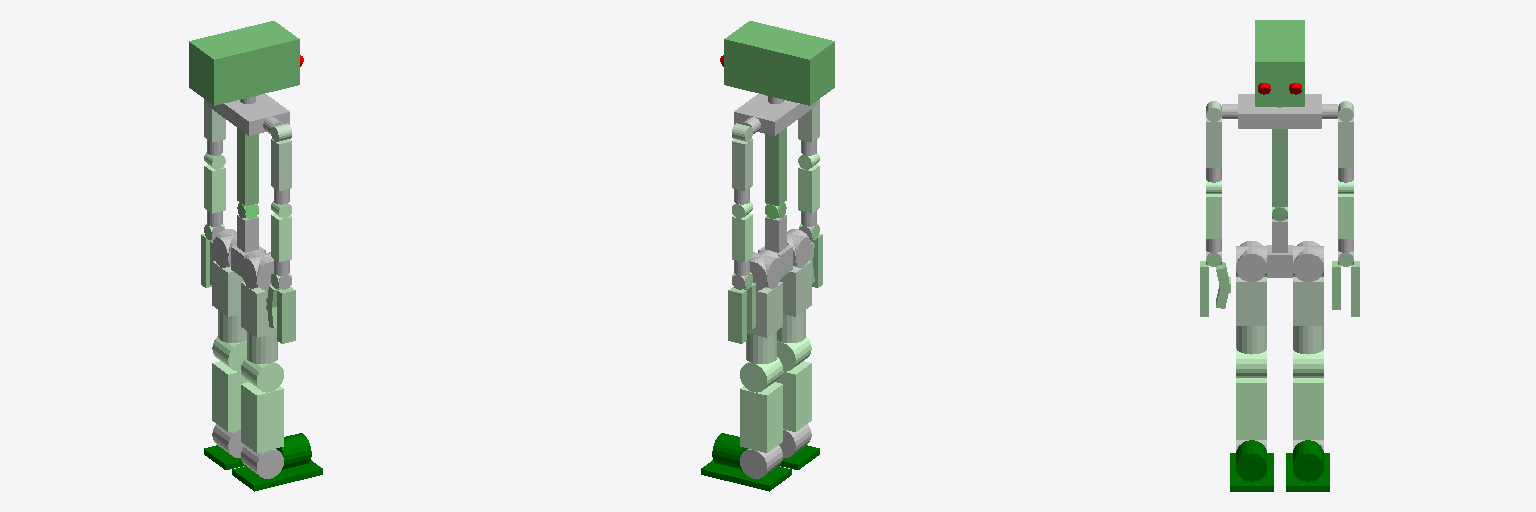
--- What the picture shows (computed from the rendered views, not written in the file) ---
Views: 3 orthographic renders of the robot side by side, from view 1: azimuth 30°, elevation 25°; view 2: azimuth 150°, elevation 25°; view 3: azimuth 270°, elevation 25°.
Robot: SampleRobot — 30 links, 29 joints (14 revolute, 15 continuous); root link WAIST_LINK0; default pose: all joints at 0.
Links seen in each view (by area): view 1: WAIST_LINK3, RLEG_LINK4, LLEG_LINK4, RLEG_LINK3, RLEG_LINK6, LLEG_LINK3, WAIST_LINK2, RARM_LINK2, RARM_LINK6, LARM_LINK4, RARM_LINK4, WAIST_LINK0 (+6 smaller); view 2: WAIST_LINK3, LLEG_LINK4, RLEG_LINK4, LLEG_LINK3, LLEG_LINK6, RLEG_LINK3, WAIST_LINK2, LARM_LINK2, LARM_LINK6, RARM_LINK4, LARM_LINK4, WAIST_LINK0 (+6 smaller); view 3: WAIST_LINK3, LLEG_LINK4, RLEG_LINK4, LLEG_LINK3, RLEG_LINK3, LLEG_LINK6, RLEG_LINK6, WAIST_LINK2, WAIST_LINK0, LARM_LINK2, RARM_LINK2, LARM_LINK4 (+5 smaller).
Link boxes in pixels (box(x1,y1,x2,y2)): WAIST_LINK3: box(189, 21, 303, 135); RLEG_LINK4: box(241, 357, 283, 452); LLEG_LINK4: box(212, 336, 248, 431); RLEG_LINK3: box(241, 282, 277, 363); RLEG_LINK6: box(232, 433, 322, 491); LLEG_LINK3: box(212, 261, 246, 342); WAIST_LINK2: box(237, 128, 258, 217); RARM_LINK2: box(271, 123, 291, 190); RARM_LINK6: box(271, 272, 295, 343); LARM_LINK4: box(204, 152, 225, 213); RARM_LINK4: box(271, 201, 291, 261); WAIST_LINK0: box(231, 215, 265, 276); WAIST_LINK3: box(720, 21, 834, 135); LLEG_LINK4: box(740, 357, 782, 452); RLEG_LINK4: box(775, 336, 811, 431); LLEG_LINK3: box(746, 282, 782, 363); LLEG_LINK6: box(701, 433, 791, 491); RLEG_LINK3: box(777, 261, 811, 342); WAIST_LINK2: box(765, 128, 786, 217); LARM_LINK2: box(732, 123, 752, 190); LARM_LINK6: box(728, 272, 752, 343); RARM_LINK4: box(798, 152, 819, 213); LARM_LINK4: box(732, 201, 752, 261); WAIST_LINK0: box(758, 215, 792, 276); WAIST_LINK3: box(1238, 20, 1321, 128); LLEG_LINK4: box(1293, 349, 1323, 439); RLEG_LINK4: box(1236, 349, 1266, 439); LLEG_LINK3: box(1293, 277, 1323, 354); RLEG_LINK3: box(1236, 277, 1266, 354); LLEG_LINK6: box(1286, 440, 1329, 491); RLEG_LINK6: box(1230, 440, 1273, 491); WAIST_LINK2: box(1272, 129, 1287, 221); WAIST_LINK0: box(1267, 219, 1292, 277); LARM_LINK2: box(1338, 101, 1353, 167); RARM_LINK2: box(1206, 101, 1221, 167); LARM_LINK4: box(1338, 180, 1353, 238).
Bounding box of the posed robot: 0.35 × 0.51 × 1.49 m (x, y, z).
30 mesh visuals loaded from 30 distinct referenced files (30 Collada DAE).

The robot description file, URDF, robot "SampleRobot":
<?xml version="1.0"?>
<robot name="SampleRobot"
       xmlns:xi="http://www.w3.org/2001/XInclude"
       >
  <link name="WAIST_LINK0">
    <visual>
      <origin xyz="0 0 0.7235" rpy="0 -0 0"/>
      <geometry>
        <mesh filename="package://hrpsys_ros_bridge_tutorials/models/SampleRobot_meshes/WAIST_LINK0_mesh.dae" scale="1 1 1" />
      </geometry>
    </visual>
    <collision>
      <origin xyz="0 0 0.7235" rpy="0 -0 0"/>
      <geometry>
        <mesh filename="package://hrpsys_ros_bridge_tutorials/models/SampleRobot_meshes/WAIST_LINK0_mesh.dae" scale="1 1 1" />
      </geometry>
    </collision>
    <inertial>
      <mass value="27" />
      <origin xyz="0 0 0.0375" rpy="0 -0 0"/>
      <inertia ixx="0.096482" ixy="0" ixz="0" iyy="0.096482" iyz="0" izz="0.0288"/>
    </inertial>
  </link>
  <gazebo reference="WAIST_LINK0">
    <mu1>0.9</mu1>
    <mu2>0.9</mu2>
  </gazebo>
  <link name="LLEG_LINK1">
    <visual>
      <origin xyz="0 0.09 0" rpy="0 -0 0"/>
      <geometry>
        <mesh filename="package://hrpsys_ros_bridge_tutorials/models/SampleRobot_meshes/LLEG_LINK1_mesh.dae" scale="1 1 1" />
      </geometry>
    </visual>
    <collision>
      <origin xyz="0 0.09 0" rpy="0 -0 0"/>
      <geometry>
        <mesh filename="package://hrpsys_ros_bridge_tutorials/models/SampleRobot_meshes/LLEG_LINK1_mesh.dae" scale="1 1 1" />
      </geometry>
    </collision>
    <inertial>
      <mass value="2.5" />
      <origin xyz="0 0 0" rpy="0 -0 0"/>
      <inertia ixx="0.003125" ixy="0" ixz="0" iyy="0.003646" iyz="0" izz="0.003646"/>
    </inertial>
  </link>
  <gazebo reference="LLEG_LINK1">
    <mu1>0.9</mu1>
    <mu2>0.9</mu2>
  </gazebo>
  <link name="LLEG_LINK2">
    <visual>
      <origin xyz="0 0 0" rpy="0 -0 0"/>
      <geometry>
        <mesh filename="package://hrpsys_ros_bridge_tutorials/models/SampleRobot_meshes/LLEG_LINK2_mesh.dae" scale="1 1 1" />
      </geometry>
    </visual>
    <collision>
      <origin xyz="0 0 0" rpy="0 -0 0"/>
      <geometry>
        <mesh filename="package://hrpsys_ros_bridge_tutorials/models/SampleRobot_meshes/LLEG_LINK2_mesh.dae" scale="1 1 1" />
      </geometry>
    </collision>
    <inertial>
      <mass value="2" />
      <origin xyz="0 0 0" rpy="0 -0 0"/>
      <inertia ixx="0.002917" ixy="0" ixz="0" iyy="0.0025" iyz="0" izz="0.002917"/>
    </inertial>
  </link>
  <gazebo reference="LLEG_LINK2">
    <mu1>0.9</mu1>
    <mu2>0.9</mu2>
  </gazebo>
  <link name="LLEG_LINK3">
    <visual>
      <origin xyz="0 0 -0.3535" rpy="0 -0 0"/>
      <geometry>
        <mesh filename="package://hrpsys_ros_bridge_tutorials/models/SampleRobot_meshes/LLEG_LINK3_mesh.dae" scale="1 1 1" />
      </geometry>
    </visual>
    <collision>
      <origin xyz="0 0 -0.3535" rpy="0 -0 0"/>
      <geometry>
        <mesh filename="package://hrpsys_ros_bridge_tutorials/models/SampleRobot_meshes/LLEG_LINK3_mesh.dae" scale="1 1 1" />
      </geometry>
    </collision>
    <inertial>
      <mass value="5.1" />
      <origin xyz="0 0 0.18" rpy="0 -0 0"/>
      <inertia ixx="0.03156" ixy="0" ixz="0" iyy="0.03156" iyz="0" izz="0.0085"/>
    </inertial>
  </link>
  <gazebo reference="LLEG_LINK3">
    <mu1>0.9</mu1>
    <mu2>0.9</mu2>
  </gazebo>
  <link name="LLEG_LINK4">
    <visual>
      <origin xyz="0 0 0" rpy="0 -0 0"/>
      <geometry>
        <mesh filename="package://hrpsys_ros_bridge_tutorials/models/SampleRobot_meshes/LLEG_LINK4_mesh.dae" scale="1 1 1" />
      </geometry>
    </visual>
    <collision>
      <origin xyz="0 0 0" rpy="0 -0 0"/>
      <geometry>
        <mesh filename="package://hrpsys_ros_bridge_tutorials/models/SampleRobot_meshes/LLEG_LINK4_mesh.dae" scale="1 1 1" />
      </geometry>
    </collision>
    <inertial>
      <mass value="7" />
      <origin xyz="0 0 -0.12" rpy="0 -0 0"/>
      <inertia ixx="0.05833" ixy="0" ixz="0" iyy="0.05833" iyz="0" izz="0.01167"/>
    </inertial>
  </link>
  <gazebo reference="LLEG_LINK4">
    <mu1>0.9</mu1>
    <mu2>0.9</mu2>
  </gazebo>
  <link name="LLEG_LINK5">
    <visual>
      <origin xyz="0 0 -0.3" rpy="0 -0 0"/>
      <geometry>
        <mesh filename="package://hrpsys_ros_bridge_tutorials/models/SampleRobot_meshes/LLEG_LINK5_mesh.dae" scale="1 1 1" />
      </geometry>
    </visual>
    <collision>
      <origin xyz="0 0 -0.3" rpy="0 -0 0"/>
      <geometry>
        <mesh filename="package://hrpsys_ros_bridge_tutorials/models/SampleRobot_meshes/LLEG_LINK5_mesh.dae" scale="1 1 1" />
      </geometry>
    </collision>
    <inertial>
      <mass value="2.5" />
      <origin xyz="0 0 0" rpy="0 -0 0"/>
      <inertia ixx="0.003646" ixy="0" ixz="0" iyy="0.003125" iyz="0" izz="0.003646"/>
    </inertial>
  </link>
  <gazebo reference="LLEG_LINK5">
    <mu1>0.9</mu1>
    <mu2>0.9</mu2>
  </gazebo>
  <link name="LLEG_LINK6">
    <visual>
      <origin xyz="0 0 0" rpy="0 -0 0"/>
      <geometry>
        <mesh filename="package://hrpsys_ros_bridge_tutorials/models/SampleRobot_meshes/LLEG_LINK6_mesh.dae" scale="1 1 1" />
      </geometry>
    </visual>
    <collision>
      <origin xyz="0 0 0" rpy="0 -0 0"/>
      <geometry>
        <mesh filename="package://hrpsys_ros_bridge_tutorials/models/SampleRobot_meshes/LLEG_LINK6_mesh.dae" scale="1 1 1" />
      </geometry>
    </collision>
    <inertial>
      <mass value="1.9" />
      <origin xyz="0.08 0 -0.03" rpy="0 -0 0"/>
      <inertia ixx="0.005291" ixy="0" ixz="0" iyy="0.012084" iyz="0" izz="0.013"/>
    </inertial>
  </link>
  <gazebo reference="LLEG_LINK6">
    <mu1>0.9</mu1>
    <mu2>0.9</mu2>
  </gazebo>
  <link name="RLEG_LINK1">
    <visual>
      <origin xyz="0 -0.09 0" rpy="0 -0 0"/>
      <geometry>
        <mesh filename="package://hrpsys_ros_bridge_tutorials/models/SampleRobot_meshes/RLEG_LINK1_mesh.dae" scale="1 1 1" />
      </geometry>
    </visual>
    <collision>
      <origin xyz="0 -0.09 0" rpy="0 -0 0"/>
      <geometry>
        <mesh filename="package://hrpsys_ros_bridge_tutorials/models/SampleRobot_meshes/RLEG_LINK1_mesh.dae" scale="1 1 1" />
      </geometry>
    </collision>
    <inertial>
      <mass value="2.5" />
      <origin xyz="0 0 0" rpy="0 -0 0"/>
      <inertia ixx="0.003125" ixy="0" ixz="0" iyy="0.003646" iyz="0" izz="0.003646"/>
    </inertial>
  </link>
  <gazebo reference="RLEG_LINK1">
    <mu1>0.9</mu1>
    <mu2>0.9</mu2>
  </gazebo>
  <link name="RLEG_LINK2">
    <visual>
      <origin xyz="0 0 0" rpy="0 -0 0"/>
      <geometry>
        <mesh filename="package://hrpsys_ros_bridge_tutorials/models/SampleRobot_meshes/RLEG_LINK2_mesh.dae" scale="1 1 1" />
      </geometry>
    </visual>
    <collision>
      <origin xyz="0 0 0" rpy="0 -0 0"/>
      <geometry>
        <mesh filename="package://hrpsys_ros_bridge_tutorials/models/SampleRobot_meshes/RLEG_LINK2_mesh.dae" scale="1 1 1" />
      </geometry>
    </collision>
    <inertial>
      <mass value="2" />
      <origin xyz="0 0 0" rpy="0 -0 0"/>
      <inertia ixx="0.002917" ixy="0" ixz="0" iyy="0.0025" iyz="0" izz="0.002917"/>
    </inertial>
  </link>
  <gazebo reference="RLEG_LINK2">
    <mu1>0.9</mu1>
    <mu2>0.9</mu2>
  </gazebo>
  <link name="RLEG_LINK3">
    <visual>
      <origin xyz="0 0 -0.3535" rpy="0 -0 0"/>
      <geometry>
        <mesh filename="package://hrpsys_ros_bridge_tutorials/models/SampleRobot_meshes/RLEG_LINK3_mesh.dae" scale="1 1 1" />
      </geometry>
    </visual>
    <collision>
      <origin xyz="0 0 -0.3535" rpy="0 -0 0"/>
      <geometry>
        <mesh filename="package://hrpsys_ros_bridge_tutorials/models/SampleRobot_meshes/RLEG_LINK3_mesh.dae" scale="1 1 1" />
      </geometry>
    </collision>
    <inertial>
      <mass value="5.1" />
      <origin xyz="0 0 0.18" rpy="0 -0 0"/>
      <inertia ixx="0.03156" ixy="0" ixz="0" iyy="0.03156" iyz="0" izz="0.0085"/>
    </inertial>
  </link>
  <gazebo reference="RLEG_LINK3">
    <mu1>0.9</mu1>
    <mu2>0.9</mu2>
  </gazebo>
  <link name="RLEG_LINK4">
    <visual>
      <origin xyz="0 0 0" rpy="0 -0 0"/>
      <geometry>
        <mesh filename="package://hrpsys_ros_bridge_tutorials/models/SampleRobot_meshes/RLEG_LINK4_mesh.dae" scale="1 1 1" />
      </geometry>
    </visual>
    <collision>
      <origin xyz="0 0 0" rpy="0 -0 0"/>
      <geometry>
        <mesh filename="package://hrpsys_ros_bridge_tutorials/models/SampleRobot_meshes/RLEG_LINK4_mesh.dae" scale="1 1 1" />
      </geometry>
    </collision>
    <inertial>
      <mass value="7" />
      <origin xyz="0 0 -0.12" rpy="0 -0 0"/>
      <inertia ixx="0.05833" ixy="0" ixz="0" iyy="0.05833" iyz="0" izz="0.01167"/>
    </inertial>
  </link>
  <gazebo reference="RLEG_LINK4">
    <mu1>0.9</mu1>
    <mu2>0.9</mu2>
  </gazebo>
  <link name="RLEG_LINK5">
    <visual>
      <origin xyz="0 0 -0.3" rpy="0 -0 0"/>
      <geometry>
        <mesh filename="package://hrpsys_ros_bridge_tutorials/models/SampleRobot_meshes/RLEG_LINK5_mesh.dae" scale="1 1 1" />
      </geometry>
    </visual>
    <collision>
      <origin xyz="0 0 -0.3" rpy="0 -0 0"/>
      <geometry>
        <mesh filename="package://hrpsys_ros_bridge_tutorials/models/SampleRobot_meshes/RLEG_LINK5_mesh.dae" scale="1 1 1" />
      </geometry>
    </collision>
    <inertial>
      <mass value="2.5" />
      <origin xyz="0 0 0" rpy="0 -0 0"/>
      <inertia ixx="0.003646" ixy="0" ixz="0" iyy="0.003125" iyz="0" izz="0.003646"/>
    </inertial>
  </link>
  <gazebo reference="RLEG_LINK5">
    <mu1>0.9</mu1>
    <mu2>0.9</mu2>
  </gazebo>
  <link name="RLEG_LINK6">
    <visual>
      <origin xyz="0 0 0" rpy="0 -0 0"/>
      <geometry>
        <mesh filename="package://hrpsys_ros_bridge_tutorials/models/SampleRobot_meshes/RLEG_LINK6_mesh.dae" scale="1 1 1" />
      </geometry>
    </visual>
    <collision>
      <origin xyz="0 0 0" rpy="0 -0 0"/>
      <geometry>
        <mesh filename="package://hrpsys_ros_bridge_tutorials/models/SampleRobot_meshes/RLEG_LINK6_mesh.dae" scale="1 1 1" />
      </geometry>
    </collision>
    <inertial>
      <mass value="1.9" />
      <origin xyz="0.08 0 -0.03" rpy="0 -0 0"/>
      <inertia ixx="0.005291" ixy="0" ixz="0" iyy="0.012084" iyz="0" izz="0.013"/>
    </inertial>
  </link>
  <gazebo reference="RLEG_LINK6">
    <mu1>0.9</mu1>
    <mu2>0.9</mu2>
  </gazebo>
  <link name="WAIST_LINK1">
    <visual>
      <origin xyz="0 0 0.176" rpy="0 -0 0"/>
      <geometry>
        <mesh filename="package://hrpsys_ros_bridge_tutorials/models/SampleRobot_meshes/WAIST_LINK1_mesh.dae" scale="1 1 1" />
      </geometry>
    </visual>
    <collision>
      <origin xyz="0 0 0.176" rpy="0 -0 0"/>
      <geometry>
        <mesh filename="package://hrpsys_ros_bridge_tutorials/models/SampleRobot_meshes/WAIST_LINK1_mesh.dae" scale="1 1 1" />
      </geometry>
    </collision>
    <inertial>
      <mass value="6" />
      <origin xyz="0 0 5.55112e-17" rpy="0 -0 0"/>
      <inertia ixx="0.002187" ixy="0" ixz="0" iyy="0.001875" iyz="0" izz="0.002187"/>
    </inertial>
  </link>
  <gazebo reference="WAIST_LINK1">
    <mu1>0.9</mu1>
    <mu2>0.9</mu2>
  </gazebo>
  <link name="WAIST_LINK2">
    <visual>
      <origin xyz="0 0 0" rpy="0 -0 0"/>
      <geometry>
        <mesh filename="package://hrpsys_ros_bridge_tutorials/models/SampleRobot_meshes/WAIST_LINK2_mesh.dae" scale="1 1 1" />
      </geometry>
    </visual>
    <collision>
      <origin xyz="0 0 0" rpy="0 -0 0"/>
      <geometry>
        <mesh filename="package://hrpsys_ros_bridge_tutorials/models/SampleRobot_meshes/WAIST_LINK2_mesh.dae" scale="1 1 1" />
      </geometry>
    </collision>
    <inertial>
      <mass value="30" />
      <origin xyz="0 0 0.16" rpy="0 -0 0"/>
      <inertia ixx="0.27" ixy="0" ixz="0" iyy="0.27" iyz="0" izz="0.0125"/>
    </inertial>
  </link>
  <gazebo reference="WAIST_LINK2">
    <mu1>0.9</mu1>
    <mu2>0.9</mu2>
  </gazebo>
  <link name="WAIST_LINK3">
    <visual>
      <origin xyz="0 0 0.35" rpy="0 -0 0"/>
      <geometry>
        <mesh filename="package://hrpsys_ros_bridge_tutorials/models/SampleRobot_meshes/WAIST_LINK3_mesh.dae" scale="1 1 1" />
      </geometry>
    </visual>
    <collision>
      <origin xyz="0 0 0.35" rpy="0 -0 0"/>
      <geometry>
        <mesh filename="package://hrpsys_ros_bridge_tutorials/models/SampleRobot_meshes/WAIST_LINK3_mesh.dae" scale="1 1 1" />
      </geometry>
    </collision>
    <inertial>
      <mass value="13" />
      <origin xyz="0 0 0.08" rpy="0 -0 0"/>
      <inertia ixx="0.17" ixy="0" ixz="0" iyy="0.215" iyz="0" izz="0.2026"/>
    </inertial>
  </link>
  <gazebo reference="WAIST_LINK3">
    <mu1>0.9</mu1>
    <mu2>0.9</mu2>
  </gazebo>
  <link name="LARM_LINK1">
    <visual>
      <origin xyz="0 0.21 0" rpy="0 -0 0"/>
      <geometry>
        <mesh filename="package://hrpsys_ros_bridge_tutorials/models/SampleRobot_meshes/LARM_LINK1_mesh.dae" scale="1 1 1" />
      </geometry>
    </visual>
    <collision>
      <origin xyz="0 0.21 0" rpy="0 -0 0"/>
      <geometry>
        <mesh filename="package://hrpsys_ros_bridge_tutorials/models/SampleRobot_meshes/LARM_LINK1_mesh.dae" scale="1 1 1" />
      </geometry>
    </collision>
    <inertial>
      <mass value="0.4" />
      <origin xyz="0 -0.05 2.22045e-16" rpy="0 -0 0"/>
      <inertia ixx="0.000125" ixy="0" ixz="0" iyy="0.000146" iyz="0" izz="0.000125"/>
    </inertial>
  </link>
  <gazebo reference="LARM_LINK1">
    <mu1>0.9</mu1>
    <mu2>0.9</mu2>
  </gazebo>
  <link name="LARM_LINK2">
    <visual>
      <origin xyz="0 0 0" rpy="0 -0 0"/>
      <geometry>
        <mesh filename="package://hrpsys_ros_bridge_tutorials/models/SampleRobot_meshes/LARM_LINK2_mesh.dae" scale="1 1 1" />
      </geometry>
    </visual>
    <collision>
      <origin xyz="0 0 0" rpy="0 -0 0"/>
      <geometry>
        <mesh filename="package://hrpsys_ros_bridge_tutorials/models/SampleRobot_meshes/LARM_LINK2_mesh.dae" scale="1 1 1" />
      </geometry>
    </collision>
    <inertial>
      <mass value="2.2" />
      <origin xyz="0 0 -0.1" rpy="0 -0 0"/>
      <inertia ixx="0.008776" ixy="0" ixz="0" iyy="0.008776" iyz="0" izz="0.000917"/>
    </inertial>
  </link>
  <gazebo reference="LARM_LINK2">
    <mu1>0.9</mu1>
    <mu2>0.9</mu2>
  </gazebo>
  <link name="LARM_LINK3">
    <visual>
      <origin xyz="0 0 -0.263" rpy="0 -0 0"/>
      <geometry>
        <mesh filename="package://hrpsys_ros_bridge_tutorials/models/SampleRobot_meshes/LARM_LINK3_mesh.dae" scale="1 1 1" />
      </geometry>
    </visual>
    <collision>
      <origin xyz="0 0 -0.263" rpy="0 -0 0"/>
      <geometry>
        <mesh filename="package://hrpsys_ros_bridge_tutorials/models/SampleRobot_meshes/LARM_LINK3_mesh.dae" scale="1 1 1" />
      </geometry>
    </collision>
    <inertial>
      <mass value="0.4" />
      <origin xyz="0 0 0.05" rpy="0 -0 0"/>
      <inertia ixx="0.000146" ixy="0" ixz="0" iyy="0.000146" iyz="0" izz="0.000125"/>
    </inertial>
  </link>
  <gazebo reference="LARM_LINK3">
    <mu1>0.9</mu1>
    <mu2>0.9</mu2>
  </gazebo>
  <link name="LARM_LINK4">
    <visual>
      <origin xyz="0 0 0" rpy="0 -0 0"/>
      <geometry>
        <mesh filename="package://hrpsys_ros_bridge_tutorials/models/SampleRobot_meshes/LARM_LINK4_mesh.dae" scale="1 1 1" />
      </geometry>
    </visual>
    <collision>
      <origin xyz="0 0 0" rpy="0 -0 0"/>
      <geometry>
        <mesh filename="package://hrpsys_ros_bridge_tutorials/models/SampleRobot_meshes/LARM_LINK4_mesh.dae" scale="1 1 1" />
      </geometry>
    </collision>
    <inertial>
      <mass value="2.2" />
      <origin xyz="0 0 -0.1" rpy="0 -0 0"/>
      <inertia ixx="0.007573" ixy="0" ixz="0" iyy="0.007573" iyz="0" izz="0.000917"/>
    </inertial>
  </link>
  <gazebo reference="LARM_LINK4">
    <mu1>0.9</mu1>
    <mu2>0.9</mu2>
  </gazebo>
  <link name="LARM_LINK5">
    <visual>
      <origin xyz="0 0 -0.247" rpy="0 -0 0"/>
      <geometry>
        <mesh filename="package://hrpsys_ros_bridge_tutorials/models/SampleRobot_meshes/LARM_LINK5_mesh.dae" scale="1 1 1" />
      </geometry>
    </visual>
    <collision>
      <origin xyz="0 0 -0.247" rpy="0 -0 0"/>
      <geometry>
        <mesh filename="package://hrpsys_ros_bridge_tutorials/models/SampleRobot_meshes/LARM_LINK5_mesh.dae" scale="1 1 1" />
      </geometry>
    </collision>
    <inertial>
      <mass value="0.4" />
      <origin xyz="0 0 0.05" rpy="0 -0 0"/>
      <inertia ixx="0.000146" ixy="0" ixz="0" iyy="0.000146" iyz="0" izz="0.000125"/>
    </inertial>
  </link>
  <gazebo reference="LARM_LINK5">
    <mu1>0.9</mu1>
    <mu2>0.9</mu2>
  </gazebo>
  <link name="LARM_LINK6">
    <visual>
      <origin xyz="0 0 0" rpy="0 -0 0"/>
      <geometry>
        <mesh filename="package://hrpsys_ros_bridge_tutorials/models/SampleRobot_meshes/LARM_LINK6_mesh.dae" scale="1 1 1" />
      </geometry>
    </visual>
    <collision>
      <origin xyz="0 0 0" rpy="0 -0 0"/>
      <geometry>
        <mesh filename="package://hrpsys_ros_bridge_tutorials/models/SampleRobot_meshes/LARM_LINK6_mesh.dae" scale="1 1 1" />
      </geometry>
    </collision>
    <inertial>
      <mass value="0.4" />
      <origin xyz="0 0.01 -0.09" rpy="0 -0 0"/>
      <inertia ixx="0.001851" ixy="0" ixz="0" iyy="0.001771" iyz="0" izz="0.000247"/>
    </inertial>
  </link>
  <gazebo reference="LARM_LINK6">
    <mu1>0.9</mu1>
    <mu2>0.9</mu2>
  </gazebo>
  <link name="LARM_LINK7">
    <visual>
      <origin xyz="0 0 0" rpy="0 -0 0"/>
      <geometry>
        <mesh filename="package://hrpsys_ros_bridge_tutorials/models/SampleRobot_meshes/LARM_LINK7_mesh.dae" scale="1 1 1" />
      </geometry>
    </visual>
    <collision>
      <origin xyz="0 0 0" rpy="0 -0 0"/>
      <geometry>
        <mesh filename="package://hrpsys_ros_bridge_tutorials/models/SampleRobot_meshes/LARM_LINK7_mesh.dae" scale="1 1 1" />
      </geometry>
    </collision>
    <inertial>
      <mass value="0.4" />
      <origin xyz="0 -0.03 -0.1" rpy="0 -0 0"/>
      <inertia ixx="0.00078" ixy="0" ixz="0" iyy="0.000833" iyz="0" izz="0.000113"/>
    </inertial>
  </link>
  <gazebo reference="LARM_LINK7">
    <mu1>0.9</mu1>
    <mu2>0.9</mu2>
  </gazebo>
  <link name="RARM_LINK1">
    <visual>
      <origin xyz="0 -0.21 0" rpy="0 -0 0"/>
      <geometry>
        <mesh filename="package://hrpsys_ros_bridge_tutorials/models/SampleRobot_meshes/RARM_LINK1_mesh.dae" scale="1 1 1" />
      </geometry>
    </visual>
    <collision>
      <origin xyz="0 -0.21 0" rpy="0 -0 0"/>
      <geometry>
        <mesh filename="package://hrpsys_ros_bridge_tutorials/models/SampleRobot_meshes/RARM_LINK1_mesh.dae" scale="1 1 1" />
      </geometry>
    </collision>
    <inertial>
      <mass value="0.4" />
      <origin xyz="0 0.05 2.22045e-16" rpy="0 -0 0"/>
      <inertia ixx="0.000125" ixy="0" ixz="0" iyy="0.000146" iyz="0" izz="0.000125"/>
    </inertial>
  </link>
  <gazebo reference="RARM_LINK1">
    <mu1>0.9</mu1>
    <mu2>0.9</mu2>
  </gazebo>
  <link name="RARM_LINK2">
    <visual>
      <origin xyz="0 0 0" rpy="0 -0 0"/>
      <geometry>
        <mesh filename="package://hrpsys_ros_bridge_tutorials/models/SampleRobot_meshes/RARM_LINK2_mesh.dae" scale="1 1 1" />
      </geometry>
    </visual>
    <collision>
      <origin xyz="0 0 0" rpy="0 -0 0"/>
      <geometry>
        <mesh filename="package://hrpsys_ros_bridge_tutorials/models/SampleRobot_meshes/RARM_LINK2_mesh.dae" scale="1 1 1" />
      </geometry>
    </collision>
    <inertial>
      <mass value="2.2" />
      <origin xyz="0 0 -0.1" rpy="0 -0 0"/>
      <inertia ixx="0.008776" ixy="0" ixz="0" iyy="0.008776" iyz="0" izz="0.000917"/>
    </inertial>
  </link>
  <gazebo reference="RARM_LINK2">
    <mu1>0.9</mu1>
    <mu2>0.9</mu2>
  </gazebo>
  <link name="RARM_LINK3">
    <visual>
      <origin xyz="0 0 -0.263" rpy="0 -0 0"/>
      <geometry>
        <mesh filename="package://hrpsys_ros_bridge_tutorials/models/SampleRobot_meshes/RARM_LINK3_mesh.dae" scale="1 1 1" />
      </geometry>
    </visual>
    <collision>
      <origin xyz="0 0 -0.263" rpy="0 -0 0"/>
      <geometry>
        <mesh filename="package://hrpsys_ros_bridge_tutorials/models/SampleRobot_meshes/RARM_LINK3_mesh.dae" scale="1 1 1" />
      </geometry>
    </collision>
    <inertial>
      <mass value="0.4" />
      <origin xyz="0 0 0.05" rpy="0 -0 0"/>
      <inertia ixx="0.000146" ixy="0" ixz="0" iyy="0.000146" iyz="0" izz="0.000125"/>
    </inertial>
  </link>
  <gazebo reference="RARM_LINK3">
    <mu1>0.9</mu1>
    <mu2>0.9</mu2>
  </gazebo>
  <link name="RARM_LINK4">
    <visual>
      <origin xyz="0 0 0" rpy="0 -0 0"/>
      <geometry>
        <mesh filename="package://hrpsys_ros_bridge_tutorials/models/SampleRobot_meshes/RARM_LINK4_mesh.dae" scale="1 1 1" />
      </geometry>
    </visual>
    <collision>
      <origin xyz="0 0 0" rpy="0 -0 0"/>
      <geometry>
        <mesh filename="package://hrpsys_ros_bridge_tutorials/models/SampleRobot_meshes/RARM_LINK4_mesh.dae" scale="1 1 1" />
      </geometry>
    </collision>
    <inertial>
      <mass value="2.2" />
      <origin xyz="0 0 -0.1" rpy="0 -0 0"/>
      <inertia ixx="0.007573" ixy="0" ixz="0" iyy="0.007573" iyz="0" izz="0.000917"/>
    </inertial>
  </link>
  <gazebo reference="RARM_LINK4">
    <mu1>0.9</mu1>
    <mu2>0.9</mu2>
  </gazebo>
  <link name="RARM_LINK5">
    <visual>
      <origin xyz="0 0 -0.247" rpy="0 -0 0"/>
      <geometry>
        <mesh filename="package://hrpsys_ros_bridge_tutorials/models/SampleRobot_meshes/RARM_LINK5_mesh.dae" scale="1 1 1" />
      </geometry>
    </visual>
    <collision>
      <origin xyz="0 0 -0.247" rpy="0 -0 0"/>
      <geometry>
        <mesh filename="package://hrpsys_ros_bridge_tutorials/models/SampleRobot_meshes/RARM_LINK5_mesh.dae" scale="1 1 1" />
      </geometry>
    </collision>
    <inertial>
      <mass value="0.4" />
      <origin xyz="0 0 0.05" rpy="0 -0 0"/>
      <inertia ixx="0.000146" ixy="0" ixz="0" iyy="0.000146" iyz="0" izz="0.000125"/>
    </inertial>
  </link>
  <gazebo reference="RARM_LINK5">
    <mu1>0.9</mu1>
    <mu2>0.9</mu2>
  </gazebo>
  <link name="RARM_LINK6">
    <visual>
      <origin xyz="0 0 0" rpy="0 -0 0"/>
      <geometry>
        <mesh filename="package://hrpsys_ros_bridge_tutorials/models/SampleRobot_meshes/RARM_LINK6_mesh.dae" scale="1 1 1" />
      </geometry>
    </visual>
    <collision>
      <origin xyz="0 0 0" rpy="0 -0 0"/>
      <geometry>
        <mesh filename="package://hrpsys_ros_bridge_tutorials/models/SampleRobot_meshes/RARM_LINK6_mesh.dae" scale="1 1 1" />
      </geometry>
    </collision>
    <inertial>
      <mass value="0.4" />
      <origin xyz="0 -0.01 -0.09" rpy="0 -0 0"/>
      <inertia ixx="0.001851" ixy="0" ixz="0" iyy="0.001771" iyz="0" izz="0.000247"/>
    </inertial>
  </link>
  <gazebo reference="RARM_LINK6">
    <mu1>0.9</mu1>
    <mu2>0.9</mu2>
  </gazebo>
  <link name="RARM_LINK7">
    <visual>
      <origin xyz="0 0 0" rpy="0 -0 0"/>
      <geometry>
        <mesh filename="package://hrpsys_ros_bridge_tutorials/models/SampleRobot_meshes/RARM_LINK7_mesh.dae" scale="1 1 1" />
      </geometry>
    </visual>
    <collision>
      <origin xyz="0 0 0" rpy="0 -0 0"/>
      <geometry>
        <mesh filename="package://hrpsys_ros_bridge_tutorials/models/SampleRobot_meshes/RARM_LINK7_mesh.dae" scale="1 1 1" />
      </geometry>
    </collision>
    <inertial>
      <mass value="0.4" />
      <origin xyz="0 0.03 -0.1" rpy="0 -0 0"/>
      <inertia ixx="0.00078" ixy="0" ixz="0" iyy="0.000833" iyz="0" izz="0.000113"/>
    </inertial>
  </link>
  <gazebo reference="RARM_LINK7">
    <mu1>0.9</mu1>
    <mu2>0.9</mu2>
  </gazebo>
  <joint name="LLEG_HIP_R" type="continuous">
    <parent link="WAIST_LINK0"/>
    <child  link="LLEG_LINK1"/>
    <origin xyz="0 0.09 0" rpy="0 -0 0 "/>
    <axis   xyz="1 0 0"/>
    <limit lower="-3.14159" upper="3.14159" effort="100" velocity="40" />
    <dynamics damping="0.2" friction="0" />
  </joint>
  <transmission type="pr2_mechanism_model/SimpleTransmission" name="LLEG_HIP_R_trans" >
    <actuator name="LLEG_HIP_R_motor" />
    <joint name="LLEG_HIP_R" />
    <mechanicalReduction>1</mechanicalReduction>
  </transmission>
  <gazebo reference="LLEG_HIP_R">
    <cfmDamping>0.4</cfmDamping>
  </gazebo>
  <joint name="LLEG_HIP_P" type="continuous">
    <parent link="LLEG_LINK1"/>
    <child  link="LLEG_LINK2"/>
    <origin xyz="0 0 0" rpy="0 -0 0 "/>
    <axis   xyz="0 1 0"/>
    <limit lower="-3.14159" upper="3.14159" effort="100" velocity="40" />
    <dynamics damping="0.2" friction="0" />
  </joint>
  <transmission type="pr2_mechanism_model/SimpleTransmission" name="LLEG_HIP_P_trans" >
    <actuator name="LLEG_HIP_P_motor" />
    <joint name="LLEG_HIP_P" />
    <mechanicalReduction>1</mechanicalReduction>
  </transmission>
  <gazebo reference="LLEG_HIP_P">
    <cfmDamping>0.4</cfmDamping>
  </gazebo>
  <joint name="LLEG_HIP_Y" type="continuous">
    <parent link="LLEG_LINK2"/>
    <child  link="LLEG_LINK3"/>
    <origin xyz="0 0 -0.3535" rpy="0 -0 0 "/>
    <axis   xyz="0 0 1"/>
    <limit lower="-3.14159" upper="3.14159" effort="100" velocity="40" />
    <dynamics damping="0.2" friction="0" />
  </joint>
  <transmission type="pr2_mechanism_model/SimpleTransmission" name="LLEG_HIP_Y_trans" >
    <actuator name="LLEG_HIP_Y_motor" />
    <joint name="LLEG_HIP_Y" />
    <mechanicalReduction>1</mechanicalReduction>
  </transmission>
  <gazebo reference="LLEG_HIP_Y">
    <cfmDamping>0.4</cfmDamping>
  </gazebo>
  <joint name="LLEG_KNEE" type="continuous">
    <parent link="LLEG_LINK3"/>
    <child  link="LLEG_LINK4"/>
    <origin xyz="0 0 0" rpy="0 -0 0 "/>
    <axis   xyz="0 1 0"/>
    <limit lower="-3.14159" upper="3.14159" effort="100" velocity="40" />
    <dynamics damping="0.2" friction="0" />
  </joint>
  <transmission type="pr2_mechanism_model/SimpleTransmission" name="LLEG_KNEE_trans" >
    <actuator name="LLEG_KNEE_motor" />
    <joint name="LLEG_KNEE" />
    <mechanicalReduction>1</mechanicalReduction>
  </transmission>
  <gazebo reference="LLEG_KNEE">
    <cfmDamping>0.4</cfmDamping>
  </gazebo>
  <joint name="LLEG_ANKLE_P" type="continuous">
    <parent link="LLEG_LINK4"/>
    <child  link="LLEG_LINK5"/>
    <origin xyz="0 0 -0.3" rpy="0 -0 0 "/>
    <axis   xyz="0 1 0"/>
    <limit lower="-3.14159" upper="3.14159" effort="100" velocity="40" />
    <dynamics damping="0.2" friction="0" />
  </joint>
  <transmission type="pr2_mechanism_model/SimpleTransmission" name="LLEG_ANKLE_P_trans" >
    <actuator name="LLEG_ANKLE_P_motor" />
    <joint name="LLEG_ANKLE_P" />
    <mechanicalReduction>1</mechanicalReduction>
  </transmission>
  <gazebo reference="LLEG_ANKLE_P">
    <cfmDamping>0.4</cfmDamping>
  </gazebo>
  <joint name="LLEG_ANKLE_R" type="continuous">
    <parent link="LLEG_LINK5"/>
    <child  link="LLEG_LINK6"/>
    <origin xyz="0 0 0" rpy="0 -0 0 "/>
    <axis   xyz="1 0 0"/>
    <limit lower="-3.14159" upper="3.14159" effort="100" velocity="40" />
    <dynamics damping="0.2" friction="0" />
  </joint>
  <transmission type="pr2_mechanism_model/SimpleTransmission" name="LLEG_ANKLE_R_trans" >
    <actuator name="LLEG_ANKLE_R_motor" />
    <joint name="LLEG_ANKLE_R" />
    <mechanicalReduction>1</mechanicalReduction>
  </transmission>
  <gazebo reference="LLEG_ANKLE_R">
    <cfmDamping>0.4</cfmDamping>
  </gazebo>
  <joint name="RLEG_HIP_R" type="continuous">
    <parent link="WAIST_LINK0"/>
    <child  link="RLEG_LINK1"/>
    <origin xyz="0 -0.09 0" rpy="0 -0 0 "/>
    <axis   xyz="1 0 0"/>
    <limit lower="-3.14159" upper="3.14159" effort="100" velocity="40" />
    <dynamics damping="0.2" friction="0" />
  </joint>
  <transmission type="pr2_mechanism_model/SimpleTransmission" name="RLEG_HIP_R_trans" >
    <actuator name="RLEG_HIP_R_motor" />
    <joint name="RLEG_HIP_R" />
    <mechanicalReduction>1</mechanicalReduction>
  </transmission>
  <gazebo reference="RLEG_HIP_R">
    <cfmDamping>0.4</cfmDamping>
  </gazebo>
  <joint name="RLEG_HIP_P" type="continuous">
    <parent link="RLEG_LINK1"/>
    <child  link="RLEG_LINK2"/>
    <origin xyz="0 0 0" rpy="0 -0 0 "/>
    <axis   xyz="0 1 0"/>
    <limit lower="-3.14159" upper="3.14159" effort="100" velocity="40" />
    <dynamics damping="0.2" friction="0" />
  </joint>
  <transmission type="pr2_mechanism_model/SimpleTransmission" name="RLEG_HIP_P_trans" >
    <actuator name="RLEG_HIP_P_motor" />
    <joint name="RLEG_HIP_P" />
    <mechanicalReduction>1</mechanicalReduction>
  </transmission>
  <gazebo reference="RLEG_HIP_P">
    <cfmDamping>0.4</cfmDamping>
  </gazebo>
  <joint name="RLEG_HIP_Y" type="continuous">
    <parent link="RLEG_LINK2"/>
    <child  link="RLEG_LINK3"/>
    <origin xyz="0 0 -0.3535" rpy="0 -0 0 "/>
    <axis   xyz="0 0 1"/>
    <limit lower="-3.14159" upper="3.14159" effort="100" velocity="0.5" />
    <dynamics damping="0.2" friction="0" />
  </joint>
  <transmission type="pr2_mechanism_model/SimpleTransmission" name="RLEG_HIP_Y_trans" >
    <actuator name="RLEG_HIP_Y_motor" />
    <joint name="RLEG_HIP_Y" />
    <mechanicalReduction>1</mechanicalReduction>
  </transmission>
  <gazebo reference="RLEG_HIP_Y">
    <cfmDamping>0.4</cfmDamping>
  </gazebo>
  <joint name="RLEG_KNEE" type="continuous">
    <parent link="RLEG_LINK3"/>
    <child  link="RLEG_LINK4"/>
    <origin xyz="0 0 0" rpy="0 -0 0 "/>
    <axis   xyz="0 1 0"/>
    <limit lower="-3.14159" upper="3.14159" effort="100" velocity="40" />
    <dynamics damping="0.2" friction="0" />
  </joint>
  <transmission type="pr2_mechanism_model/SimpleTransmission" name="RLEG_KNEE_trans" >
    <actuator name="RLEG_KNEE_motor" />
    <joint name="RLEG_KNEE" />
    <mechanicalReduction>1</mechanicalReduction>
  </transmission>
  <gazebo reference="RLEG_KNEE">
    <cfmDamping>0.4</cfmDamping>
  </gazebo>
  <joint name="RLEG_ANKLE_P" type="continuous">
    <parent link="RLEG_LINK4"/>
    <child  link="RLEG_LINK5"/>
    <origin xyz="0 0 -0.3" rpy="0 -0 0 "/>
    <axis   xyz="0 1 0"/>
    <limit lower="-3.14159" upper="3.14159" effort="100" velocity="40" />
    <dynamics damping="0.2" friction="0" />
  </joint>
  <transmission type="pr2_mechanism_model/SimpleTransmission" name="RLEG_ANKLE_P_trans" >
    <actuator name="RLEG_ANKLE_P_motor" />
    <joint name="RLEG_ANKLE_P" />
    <mechanicalReduction>1</mechanicalReduction>
  </transmission>
  <gazebo reference="RLEG_ANKLE_P">
    <cfmDamping>0.4</cfmDamping>
  </gazebo>
  <joint name="RLEG_ANKLE_R" type="continuous">
    <parent link="RLEG_LINK5"/>
    <child  link="RLEG_LINK6"/>
    <origin xyz="0 0 0" rpy="0 -0 0 "/>
    <axis   xyz="1 0 0"/>
    <limit lower="-3.14159" upper="3.14159" effort="100" velocity="40" />
    <dynamics damping="0.2" friction="0" />
  </joint>
  <transmission type="pr2_mechanism_model/SimpleTransmission" name="RLEG_ANKLE_R_trans" >
    <actuator name="RLEG_ANKLE_R_motor" />
    <joint name="RLEG_ANKLE_R" />
    <mechanicalReduction>1</mechanicalReduction>
  </transmission>
  <gazebo reference="RLEG_ANKLE_R">
    <cfmDamping>0.4</cfmDamping>
  </gazebo>
  <joint name="WAIST_P" type="continuous">
    <parent link="WAIST_LINK0"/>
    <child  link="WAIST_LINK1"/>
    <origin xyz="0 0 0.176" rpy="0 -0 0 "/>
    <axis   xyz="0 1 0"/>
    <limit lower="-3.14159" upper="3.14159" effort="100" velocity="40" />
    <dynamics damping="0.2" friction="0" />
  </joint>
  <transmission type="pr2_mechanism_model/SimpleTransmission" name="WAIST_P_trans" >
    <actuator name="WAIST_P_motor" />
    <joint name="WAIST_P" />
    <mechanicalReduction>1</mechanicalReduction>
  </transmission>
  <gazebo reference="WAIST_P">
    <cfmDamping>0.4</cfmDamping>
  </gazebo>
  <joint name="WAIST_R" type="continuous">
    <parent link="WAIST_LINK1"/>
    <child  link="WAIST_LINK2"/>
    <origin xyz="0 0 0" rpy="0 -0 0 "/>
    <axis   xyz="1 0 0"/>
    <limit lower="-3.14159" upper="3.14159" effort="100" velocity="40" />
    <dynamics damping="0.2" friction="0" />
  </joint>
  <transmission type="pr2_mechanism_model/SimpleTransmission" name="WAIST_R_trans" >
    <actuator name="WAIST_R_motor" />
    <joint name="WAIST_R" />
    <mechanicalReduction>1</mechanicalReduction>
  </transmission>
  <gazebo reference="WAIST_R">
    <cfmDamping>0.4</cfmDamping>
  </gazebo>
  <joint name="CHEST" type="continuous">
    <parent link="WAIST_LINK2"/>
    <child  link="WAIST_LINK3"/>
    <origin xyz="0 0 0.35" rpy="0 -0 0 "/>
    <axis   xyz="0 0 1"/>
    <limit lower="-3.14159" upper="3.14159" effort="100" velocity="40" />
    <dynamics damping="0.2" friction="0" />
  </joint>
  <transmission type="pr2_mechanism_model/SimpleTransmission" name="CHEST_trans" >
    <actuator name="CHEST_motor" />
    <joint name="CHEST" />
    <mechanicalReduction>1</mechanicalReduction>
  </transmission>
  <gazebo reference="CHEST">
    <cfmDamping>0.4</cfmDamping>
  </gazebo>
  <joint name="LARM_SHOULDER_P" type="revolute">
    <parent link="WAIST_LINK3"/>
    <child  link="LARM_LINK1"/>
    <origin xyz="0 0.21 0" rpy="0 -0 0 "/>
    <axis   xyz="0 1 0"/>
    <limit lower="-3.14159" upper="1.5708" effort="100" velocity="40" />
    <dynamics damping="0.2" friction="0" />
  </joint>
  <transmission type="pr2_mechanism_model/SimpleTransmission" name="LARM_SHOULDER_P_trans" >
    <actuator name="LARM_SHOULDER_P_motor" />
    <joint name="LARM_SHOULDER_P" />
    <mechanicalReduction>1</mechanicalReduction>
  </transmission>
  <gazebo reference="LARM_SHOULDER_P">
    <cfmDamping>0.4</cfmDamping>
  </gazebo>
  <joint name="LARM_SHOULDER_R" type="revolute">
    <parent link="LARM_LINK1"/>
    <child  link="LARM_LINK2"/>
    <origin xyz="0 0 0" rpy="0 -0 0 "/>
    <axis   xyz="1 0 0"/>
    <limit lower="-0.261799" upper="2.0944" effort="100" velocity="40" />
    <dynamics damping="0.2" friction="0" />
  </joint>
  <transmission type="pr2_mechanism_model/SimpleTransmission" name="LARM_SHOULDER_R_trans" >
    <actuator name="LARM_SHOULDER_R_motor" />
    <joint name="LARM_SHOULDER_R" />
    <mechanicalReduction>1</mechanicalReduction>
  </transmission>
  <gazebo reference="LARM_SHOULDER_R">
    <cfmDamping>0.4</cfmDamping>
  </gazebo>
  <joint name="LARM_SHOULDER_Y" type="revolute">
    <parent link="LARM_LINK2"/>
    <child  link="LARM_LINK3"/>
    <origin xyz="0 0 -0.263" rpy="0 -0 0 "/>
    <axis   xyz="0 0 1"/>
    <limit lower="-2.0944" upper="2.0944" effort="100" velocity="40" />
    <dynamics damping="0.2" friction="0" />
  </joint>
  <transmission type="pr2_mechanism_model/SimpleTransmission" name="LARM_SHOULDER_Y_trans" >
    <actuator name="LARM_SHOULDER_Y_motor" />
    <joint name="LARM_SHOULDER_Y" />
    <mechanicalReduction>1</mechanicalReduction>
  </transmission>
  <gazebo reference="LARM_SHOULDER_Y">
    <cfmDamping>0.4</cfmDamping>
  </gazebo>
  <joint name="LARM_ELBOW" type="revolute">
    <parent link="LARM_LINK3"/>
    <child  link="LARM_LINK4"/>
    <origin xyz="0 0 0" rpy="0 -0 0 "/>
    <axis   xyz="0 1 0"/>
    <limit lower="-2.61799" upper="0.174533" effort="100" velocity="40" />
    <dynamics damping="0.2" friction="0" />
  </joint>
  <transmission type="pr2_mechanism_model/SimpleTransmission" name="LARM_ELBOW_trans" >
    <actuator name="LARM_ELBOW_motor" />
    <joint name="LARM_ELBOW" />
    <mechanicalReduction>1</mechanicalReduction>
  </transmission>
  <gazebo reference="LARM_ELBOW">
    <cfmDamping>0.4</cfmDamping>
  </gazebo>
  <joint name="LARM_WRIST_Y" type="revolute">
    <parent link="LARM_LINK4"/>
    <child  link="LARM_LINK5"/>
    <origin xyz="0 0 -0.247" rpy="0 -0 0 "/>
    <axis   xyz="0 0 1"/>
    <limit lower="-2.0944" upper="2.0944" effort="100" velocity="40" />
    <dynamics damping="0.2" friction="0" />
  </joint>
  <transmission type="pr2_mechanism_model/SimpleTransmission" name="LARM_WRIST_Y_trans" >
    <actuator name="LARM_WRIST_Y_motor" />
    <joint name="LARM_WRIST_Y" />
    <mechanicalReduction>1</mechanicalReduction>
  </transmission>
  <gazebo reference="LARM_WRIST_Y">
    <cfmDamping>0.4</cfmDamping>
  </gazebo>
  <joint name="LARM_WRIST_P" type="revolute">
    <parent link="LARM_LINK5"/>
    <child  link="LARM_LINK6"/>
    <origin xyz="0 0 0" rpy="0 -0 0 "/>
    <axis   xyz="0 1 0"/>
    <limit lower="-2.0944" upper="2.0944" effort="100" velocity="40" />
    <dynamics damping="0.2" friction="0" />
  </joint>
  <transmission type="pr2_mechanism_model/SimpleTransmission" name="LARM_WRIST_P_trans" >
    <actuator name="LARM_WRIST_P_motor" />
    <joint name="LARM_WRIST_P" />
    <mechanicalReduction>1</mechanicalReduction>
  </transmission>
  <gazebo reference="LARM_WRIST_P">
    <cfmDamping>0.4</cfmDamping>
  </gazebo>
  <joint name="LARM_WRIST_R" type="revolute">
    <parent link="LARM_LINK6"/>
    <child  link="LARM_LINK7"/>
    <origin xyz="0 0 0" rpy="0 -0 0 "/>
    <axis   xyz="1 0 0"/>
    <limit lower="-1.309" upper="0.122173" effort="100" velocity="40" />
    <dynamics damping="0.2" friction="0" />
  </joint>
  <transmission type="pr2_mechanism_model/SimpleTransmission" name="LARM_WRIST_R_trans" >
    <actuator name="LARM_WRIST_R_motor" />
    <joint name="LARM_WRIST_R" />
    <mechanicalReduction>1</mechanicalReduction>
  </transmission>
  <gazebo reference="LARM_WRIST_R">
    <cfmDamping>0.4</cfmDamping>
  </gazebo>
  <joint name="RARM_SHOULDER_P" type="revolute">
    <parent link="WAIST_LINK3"/>
    <child  link="RARM_LINK1"/>
    <origin xyz="0 -0.21 0" rpy="0 -0 0 "/>
    <axis   xyz="0 1 0"/>
    <limit lower="-3.14159" upper="1.5708" effort="100" velocity="40" />
    <dynamics damping="0.2" friction="0" />
  </joint>
  <transmission type="pr2_mechanism_model/SimpleTransmission" name="RARM_SHOULDER_P_trans" >
    <actuator name="RARM_SHOULDER_P_motor" />
    <joint name="RARM_SHOULDER_P" />
    <mechanicalReduction>1</mechanicalReduction>
  </transmission>
  <gazebo reference="RARM_SHOULDER_P">
    <cfmDamping>0.4</cfmDamping>
  </gazebo>
  <joint name="RARM_SHOULDER_R" type="revolute">
    <parent link="RARM_LINK1"/>
    <child  link="RARM_LINK2"/>
    <origin xyz="0 0 0" rpy="0 -0 0 "/>
    <axis   xyz="1 0 0"/>
    <limit lower="-2.0944" upper="0.261799" effort="100" velocity="40" />
    <dynamics damping="0.2" friction="0" />
  </joint>
  <transmission type="pr2_mechanism_model/SimpleTransmission" name="RARM_SHOULDER_R_trans" >
    <actuator name="RARM_SHOULDER_R_motor" />
    <joint name="RARM_SHOULDER_R" />
    <mechanicalReduction>1</mechanicalReduction>
  </transmission>
  <gazebo reference="RARM_SHOULDER_R">
    <cfmDamping>0.4</cfmDamping>
  </gazebo>
  <joint name="RARM_SHOULDER_Y" type="revolute">
    <parent link="RARM_LINK2"/>
    <child  link="RARM_LINK3"/>
    <origin xyz="0 0 -0.263" rpy="0 -0 0 "/>
    <axis   xyz="0 0 1"/>
    <limit lower="-2.0944" upper="2.0944" effort="100" velocity="40" />
    <dynamics damping="0.2" friction="0" />
  </joint>
  <transmission type="pr2_mechanism_model/SimpleTransmission" name="RARM_SHOULDER_Y_trans" >
    <actuator name="RARM_SHOULDER_Y_motor" />
    <joint name="RARM_SHOULDER_Y" />
    <mechanicalReduction>1</mechanicalReduction>
  </transmission>
  <gazebo reference="RARM_SHOULDER_Y">
    <cfmDamping>0.4</cfmDamping>
  </gazebo>
  <joint name="RARM_ELBOW" type="revolute">
    <parent link="RARM_LINK3"/>
    <child  link="RARM_LINK4"/>
    <origin xyz="0 0 0" rpy="0 -0 0 "/>
    <axis   xyz="0 1 0"/>
    <limit lower="-2.61799" upper="0.174533" effort="100" velocity="40" />
    <dynamics damping="0.2" friction="0" />
  </joint>
  <transmission type="pr2_mechanism_model/SimpleTransmission" name="RARM_ELBOW_trans" >
    <actuator name="RARM_ELBOW_motor" />
    <joint name="RARM_ELBOW" />
    <mechanicalReduction>1</mechanicalReduction>
  </transmission>
  <gazebo reference="RARM_ELBOW">
    <cfmDamping>0.4</cfmDamping>
  </gazebo>
  <joint name="RARM_WRIST_Y" type="revolute">
    <parent link="RARM_LINK4"/>
    <child  link="RARM_LINK5"/>
    <origin xyz="0 0 -0.247" rpy="0 -0 0 "/>
    <axis   xyz="0 0 1"/>
    <limit lower="-2.0944" upper="2.0944" effort="100" velocity="40" />
    <dynamics damping="0.2" friction="0" />
  </joint>
  <transmission type="pr2_mechanism_model/SimpleTransmission" name="RARM_WRIST_Y_trans" >
    <actuator name="RARM_WRIST_Y_motor" />
    <joint name="RARM_WRIST_Y" />
    <mechanicalReduction>1</mechanicalReduction>
  </transmission>
  <gazebo reference="RARM_WRIST_Y">
    <cfmDamping>0.4</cfmDamping>
  </gazebo>
  <joint name="RARM_WRIST_P" type="revolute">
    <parent link="RARM_LINK5"/>
    <child  link="RARM_LINK6"/>
    <origin xyz="0 0 0" rpy="0 -0 0 "/>
    <axis   xyz="0 1 0"/>
    <limit lower="-2.0944" upper="2.0944" effort="100" velocity="40" />
    <dynamics damping="0.2" friction="0" />
  </joint>
  <transmission type="pr2_mechanism_model/SimpleTransmission" name="RARM_WRIST_P_trans" >
    <actuator name="RARM_WRIST_P_motor" />
    <joint name="RARM_WRIST_P" />
    <mechanicalReduction>1</mechanicalReduction>
  </transmission>
  <gazebo reference="RARM_WRIST_P">
    <cfmDamping>0.4</cfmDamping>
  </gazebo>
  <joint name="RARM_WRIST_R" type="revolute">
    <parent link="RARM_LINK6"/>
    <child  link="RARM_LINK7"/>
    <origin xyz="0 0 0" rpy="0 -0 0 "/>
    <axis   xyz="1 0 0"/>
    <limit lower="-0.122173" upper="1.309" effort="100" velocity="40" />
    <dynamics damping="0.2" friction="0" />
  </joint>
  <transmission type="pr2_mechanism_model/SimpleTransmission" name="RARM_WRIST_R_trans" >
    <actuator name="RARM_WRIST_R_motor" />
    <joint name="RARM_WRIST_R" />
    <mechanicalReduction>1</mechanicalReduction>
  </transmission>
  <gazebo reference="RARM_WRIST_R">
    <cfmDamping>0.4</cfmDamping>
  </gazebo>
</robot>
